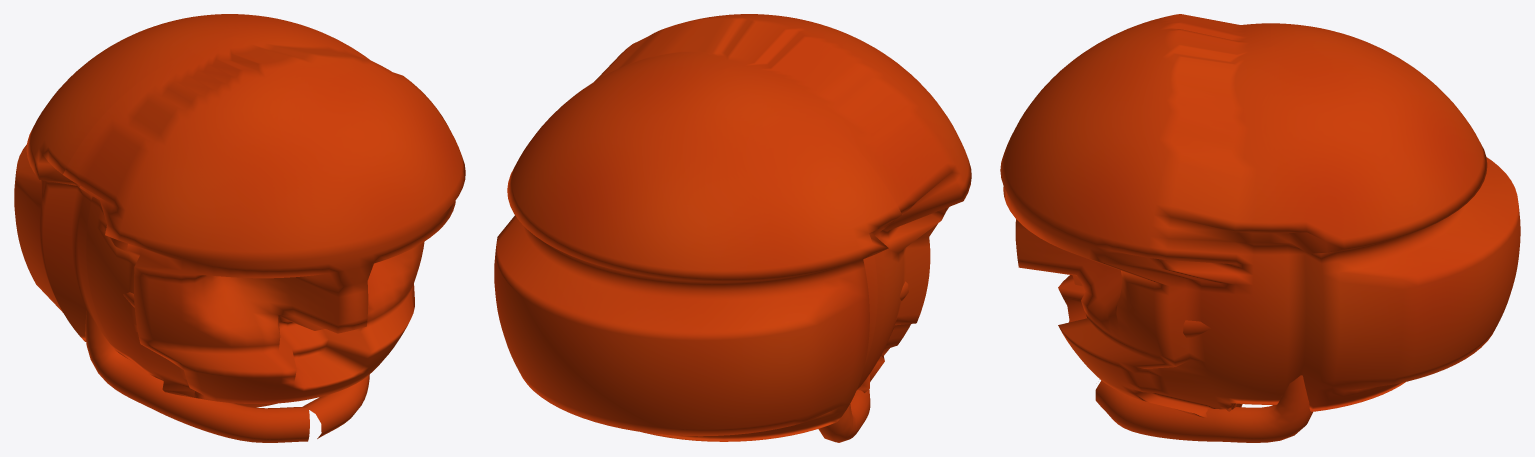
Rendered from skull.glb.
3 renders of one model, left to right at view 1: azimuth 30°, elevation 25°; view 2: azimuth 150°, elevation 25°; view 3: azimuth 270°, elevation 25°, orthographic. The views are drawn at different scales.
Visible parts, largest first — view 1: asthi_cranium_skull, asthi_mandible_l, asthi_mandible_r; view 2: asthi_cranium_skull, asthi_mandible_l; view 3: asthi_cranium_skull, asthi_mandible_r.
Boxes of the visible parts, x1,y1,x2,y2 form: asthi_cranium_skull: (14, 14, 465, 407); asthi_mandible_l: (85, 310, 309, 442); asthi_mandible_r: (302, 374, 369, 438); asthi_cranium_skull: (494, 14, 971, 441); asthi_mandible_l: (818, 389, 870, 442); asthi_cranium_skull: (1000, 14, 1520, 418); asthi_mandible_r: (1095, 375, 1312, 442).
Size of the model in its own units: 0.2299 by 0.2232 by 0.2812.
